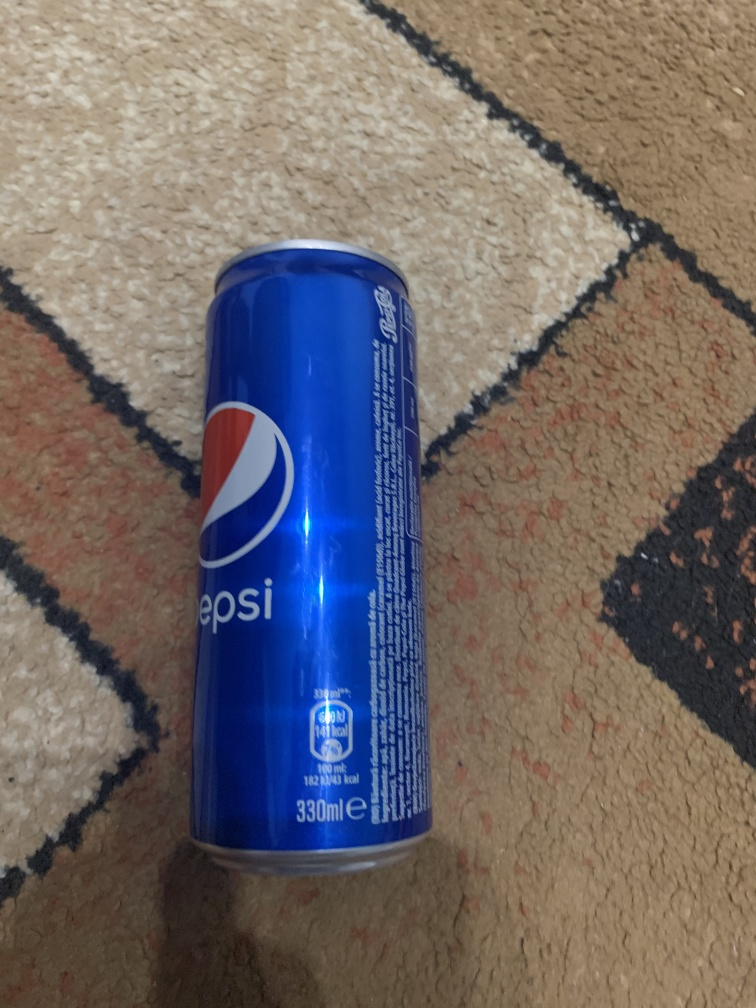pepsi: (192, 239, 434, 884)
